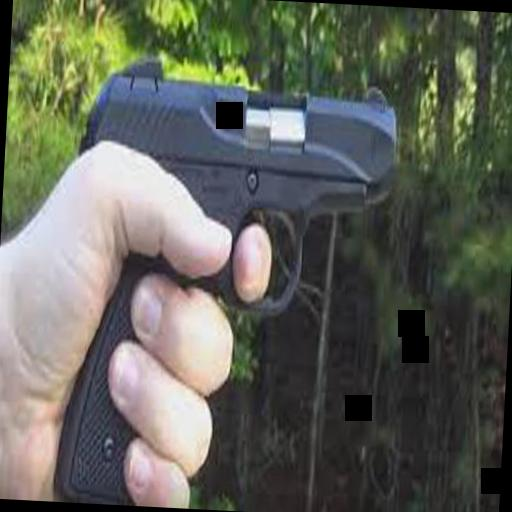Handgun: (60, 58, 406, 511)
